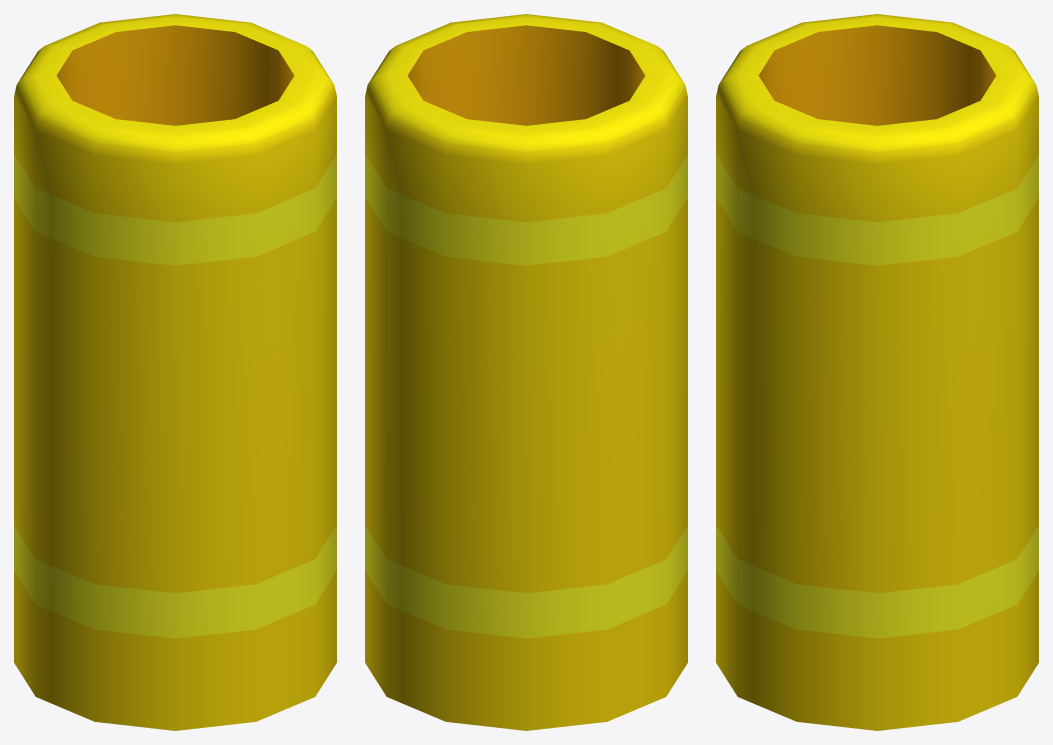
File: F_P_FireworksEjector_2.FBX
3 views of the same model, side by side, from view 1: azimuth 30°, elevation 25°; view 2: azimuth 150°, elevation 25°; view 3: azimuth 270°, elevation 25° (orthographic).
Visible parts, largest first — view 1: F_P_FireworksEjector_2; view 2: F_P_FireworksEjector_2; view 3: F_P_FireworksEjector_2.
Boxes of the visible parts, x1,y1,x2,y2 form: F_P_FireworksEjector_2: (14,14,336,730); F_P_FireworksEjector_2: (365,14,687,730); F_P_FireworksEjector_2: (716,14,1038,730).
Size of the model in its own units: 39.47 by 79.2 by 39.47.
